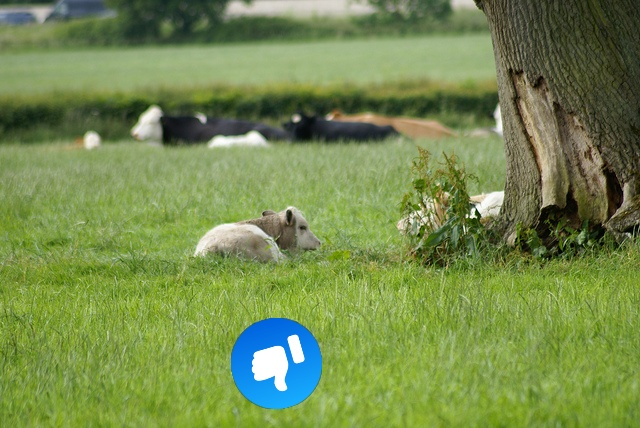like: (231, 318, 322, 409)
